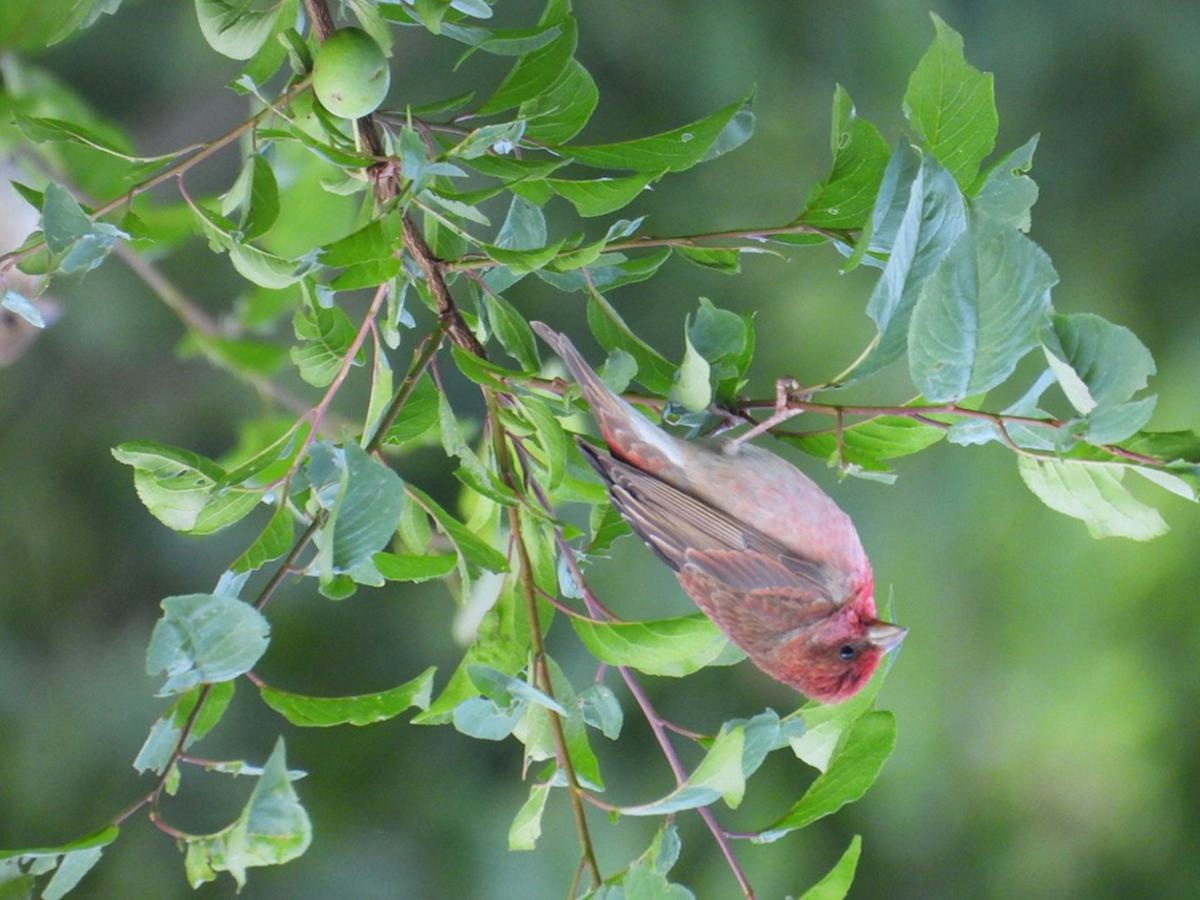rosefinch: (536, 316, 929, 685)
